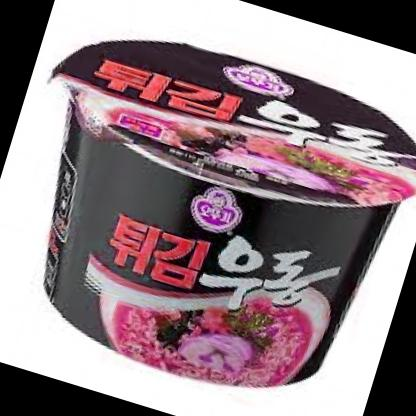Ramen: (1, 21, 416, 416)
